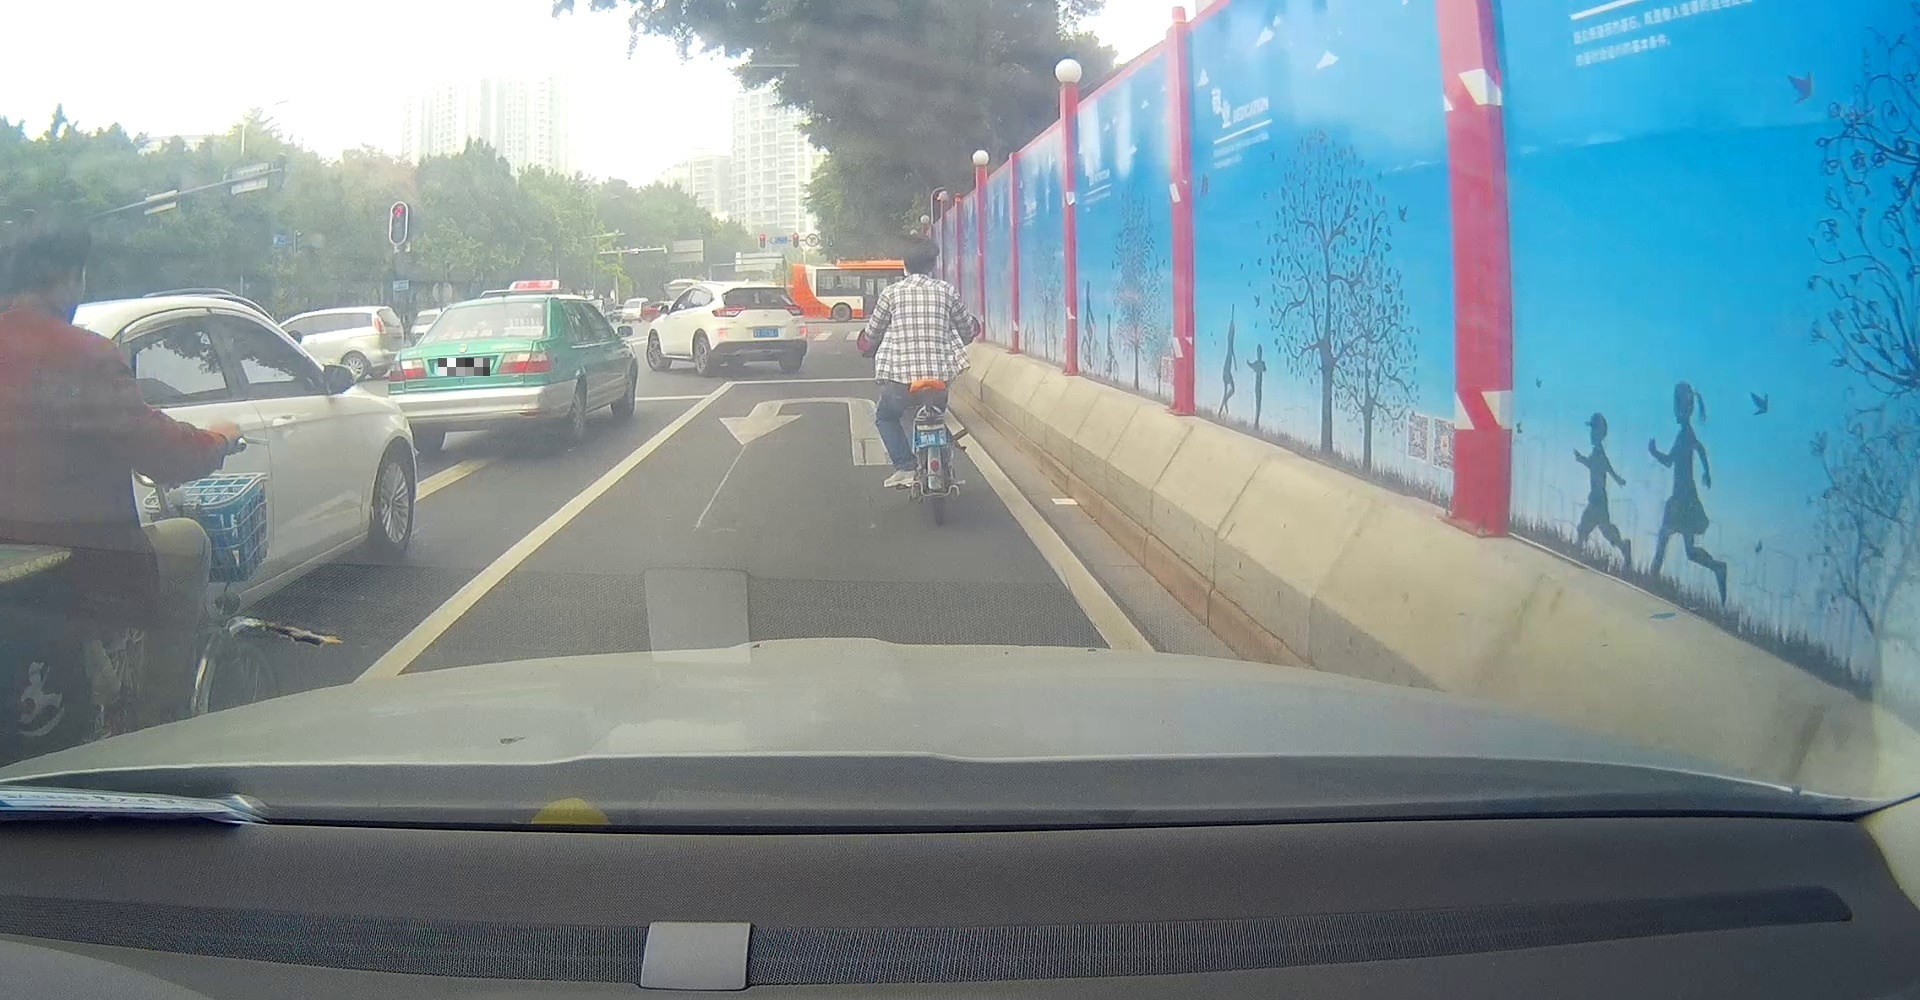L_light: (386, 357, 425, 382), (710, 305, 745, 319)
R_light: (497, 349, 552, 376), (783, 303, 805, 315)
T_light: (481, 305, 509, 312), (752, 288, 772, 292)
day-left: (707, 280, 810, 374)
day-no: (385, 293, 560, 456)
plate_1: (438, 358, 490, 376)
